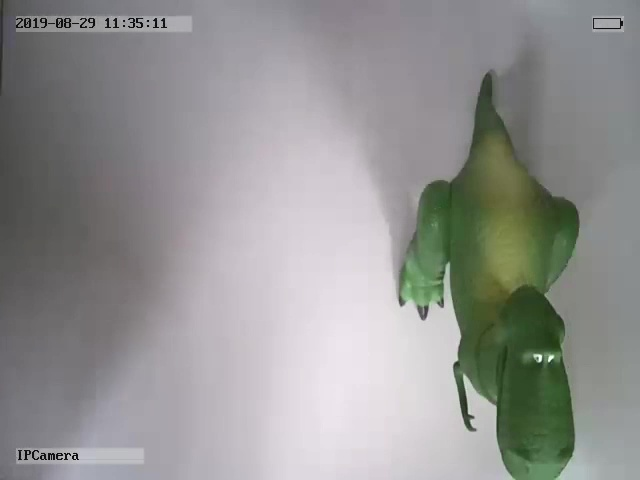rex: (394, 68, 583, 480)
